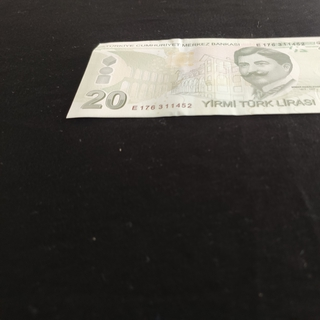20TLBack: (66, 34, 320, 119)
